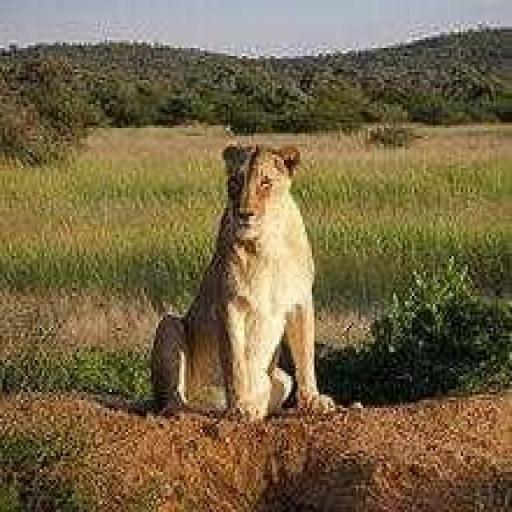Lion: (144, 139, 338, 424)
